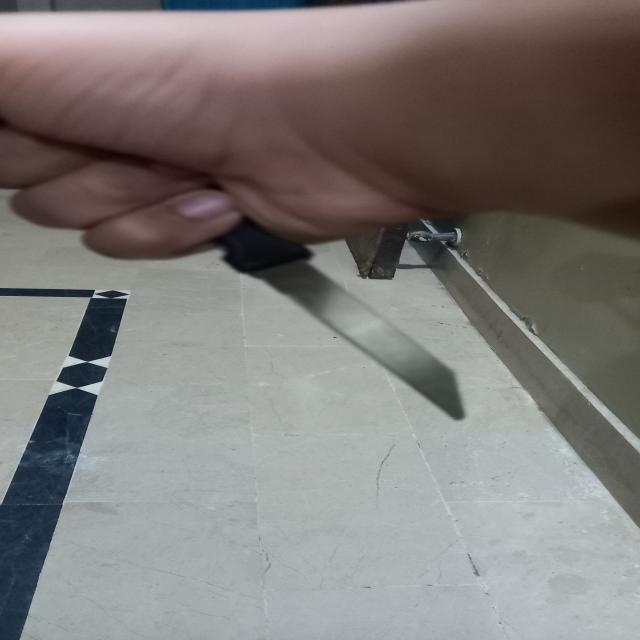Knife: (152, 174, 476, 422)
